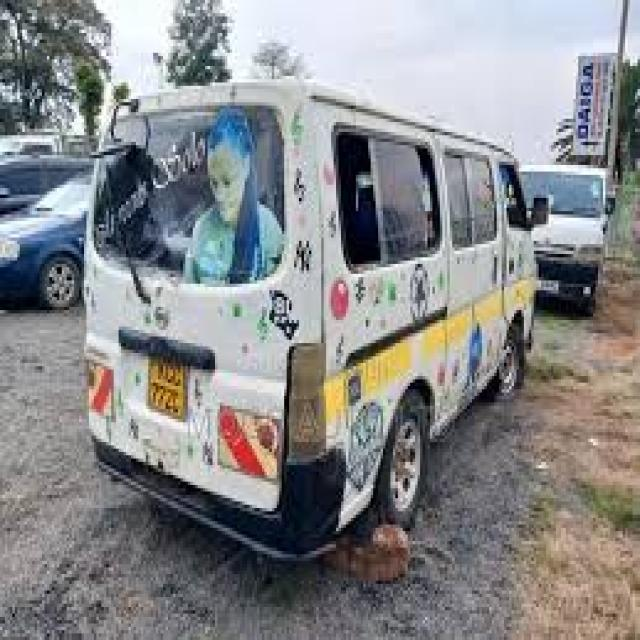matatu: (60, 40, 576, 585)
